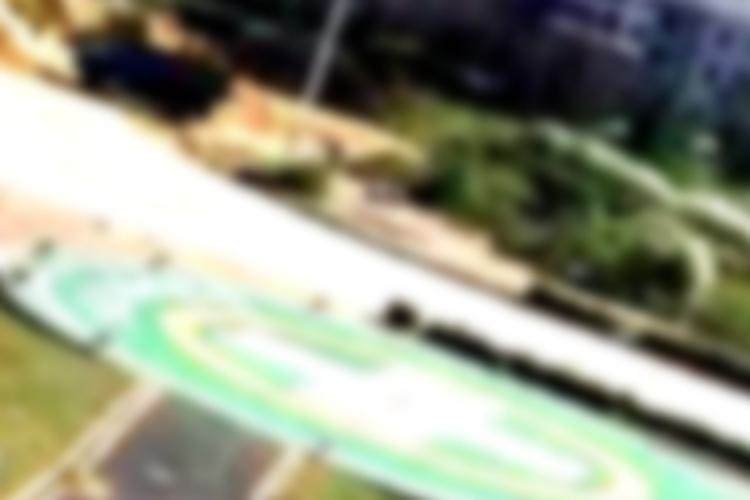Apron: (269, 325, 518, 458)
